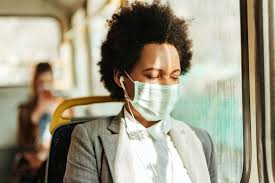with_mask: (112, 42, 181, 122)
